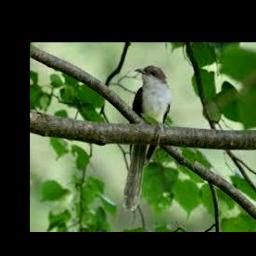Cuckoo: (124, 65, 172, 211)
